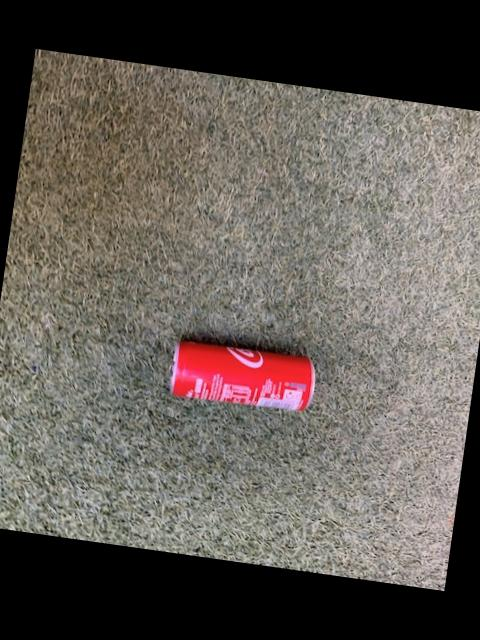metal: (172, 341, 315, 409)
